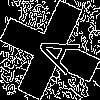A: (25, 25, 81, 75)
